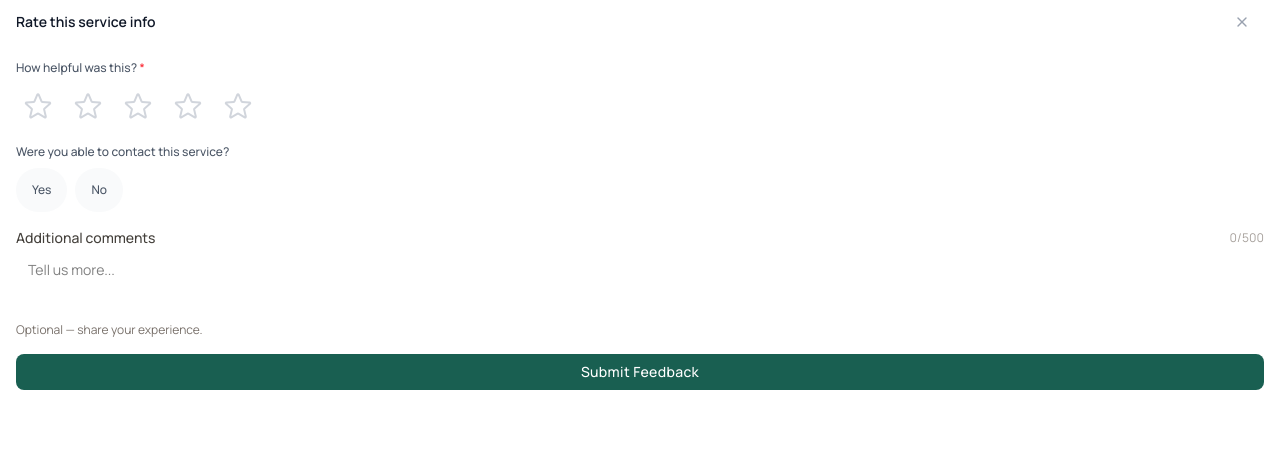
FeedbackForm › shows API errors and keeps submission available when a rating is set
Click the radio button named "4 stars". click: point(188, 106)
box: [166,84,210,128]
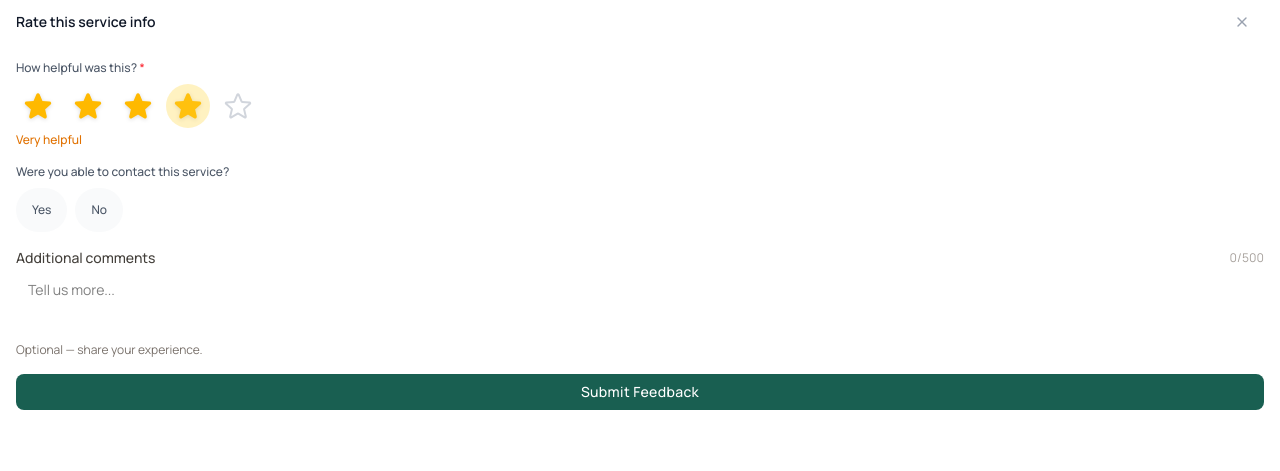
Click the button "Submit Feedback". click: point(640, 392)
box: [16,374,1264,410]
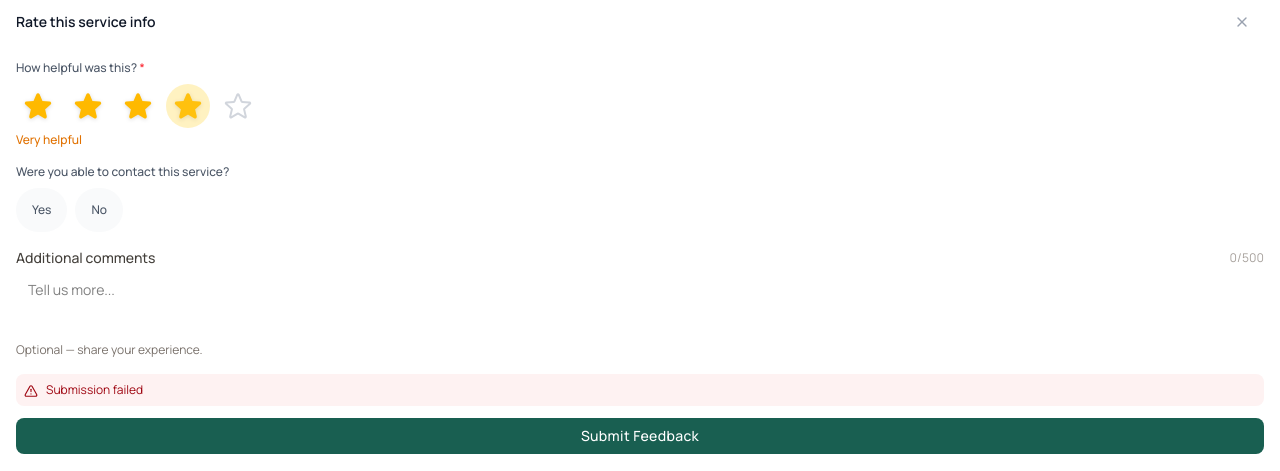
Check: the button "Submit Feedback" is enabled, box [16,418,1264,454]
Check: the message reads "Submission failed", box [46,381,143,398]
